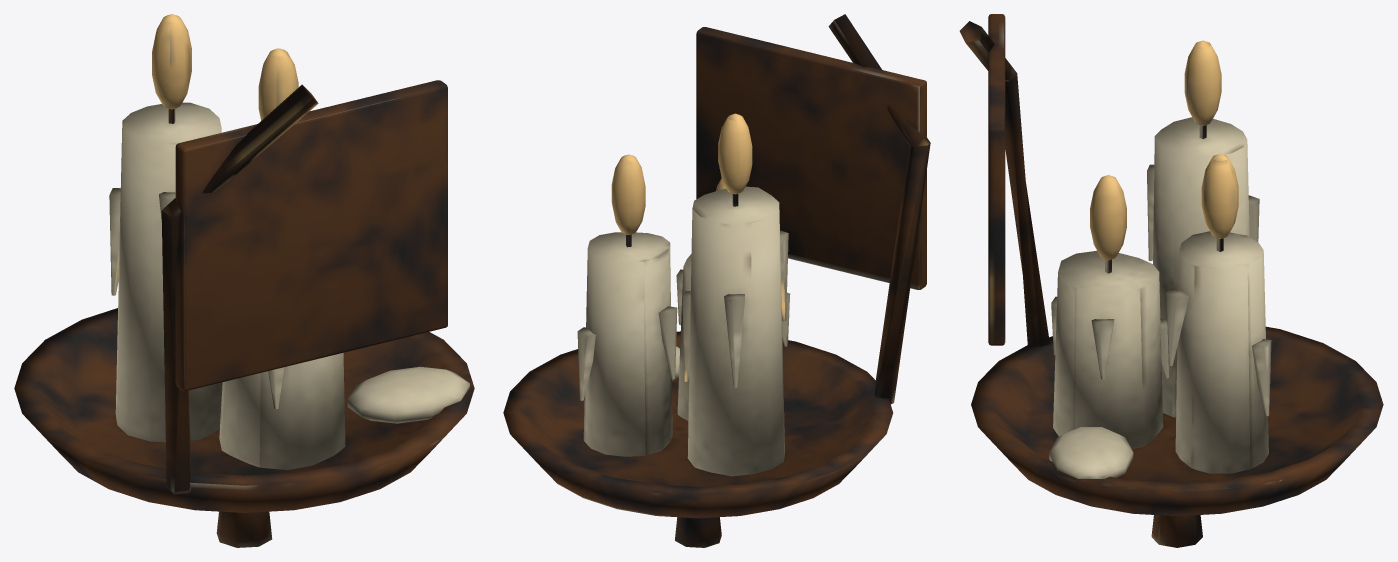
Rendered from tallow_lamp.obj.
The picture shows the model from 3 angles, left to right: view 1: azimuth 30°, elevation 25°; view 2: azimuth 150°, elevation 25°; view 3: azimuth 270°, elevation 25°; orthographic projection. The views are drawn at different scales.
Visible parts, largest first — view 1: part0, part1, fire; view 2: part0, part1, fire; view 3: part1, part0, fire.
Part boxes in pixels (x1,y1,x2,y2): part0: [14, 80, 474, 547]; part1: [109, 102, 469, 470]; fire: [152, 14, 298, 120]; part0: [503, 14, 930, 547]; part1: [577, 186, 790, 476]; fire: [611, 113, 752, 234]; part1: [1049, 117, 1271, 478]; part0: [959, 14, 1383, 547]; fire: [1090, 40, 1238, 260].
Size of the model in its own units: 0.48 by 0.6303 by 0.4935.
